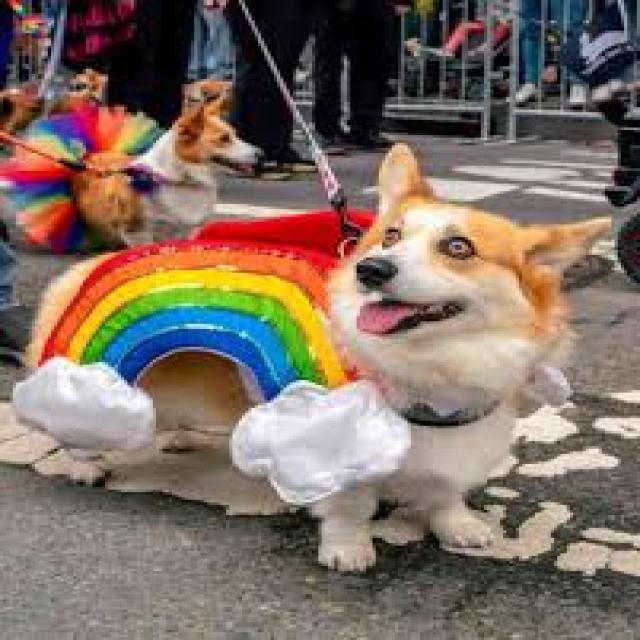CORGI: (282, 160, 611, 585)
